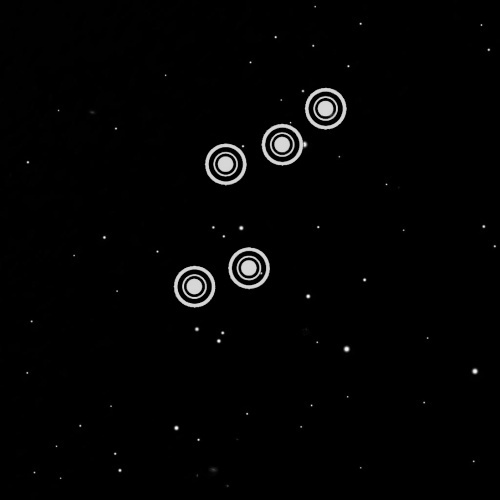lyra: (168, 74, 355, 318)
